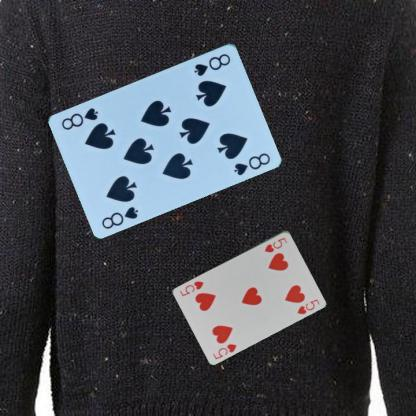5h: (210, 341, 238, 360), (262, 235, 288, 254)
8s: (192, 51, 232, 78), (99, 203, 139, 230)
